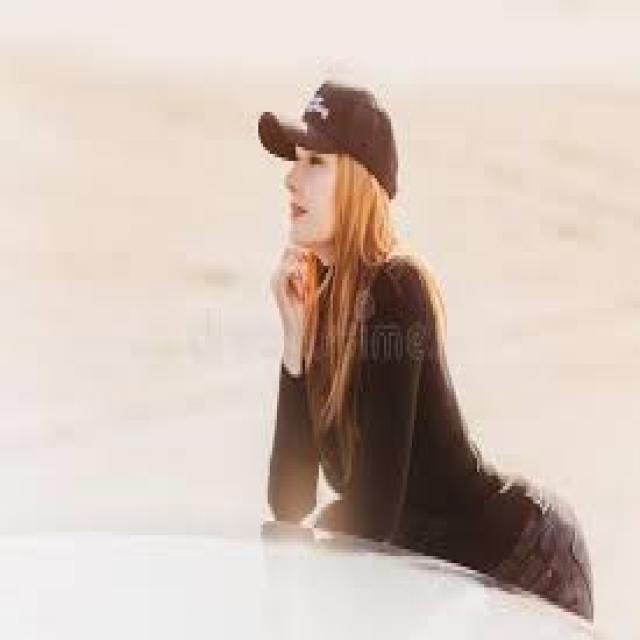cap: (221, 56, 431, 227)
